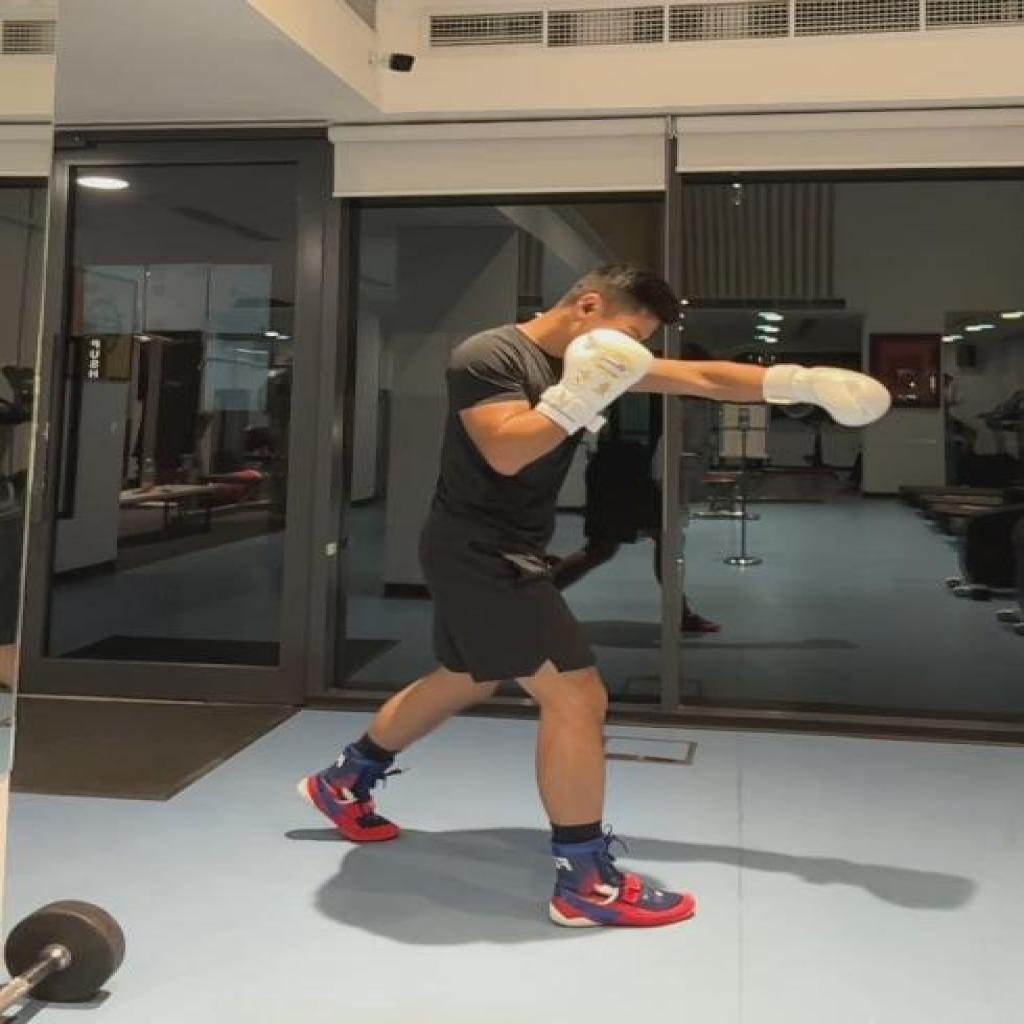cross: (288, 259, 894, 936)
